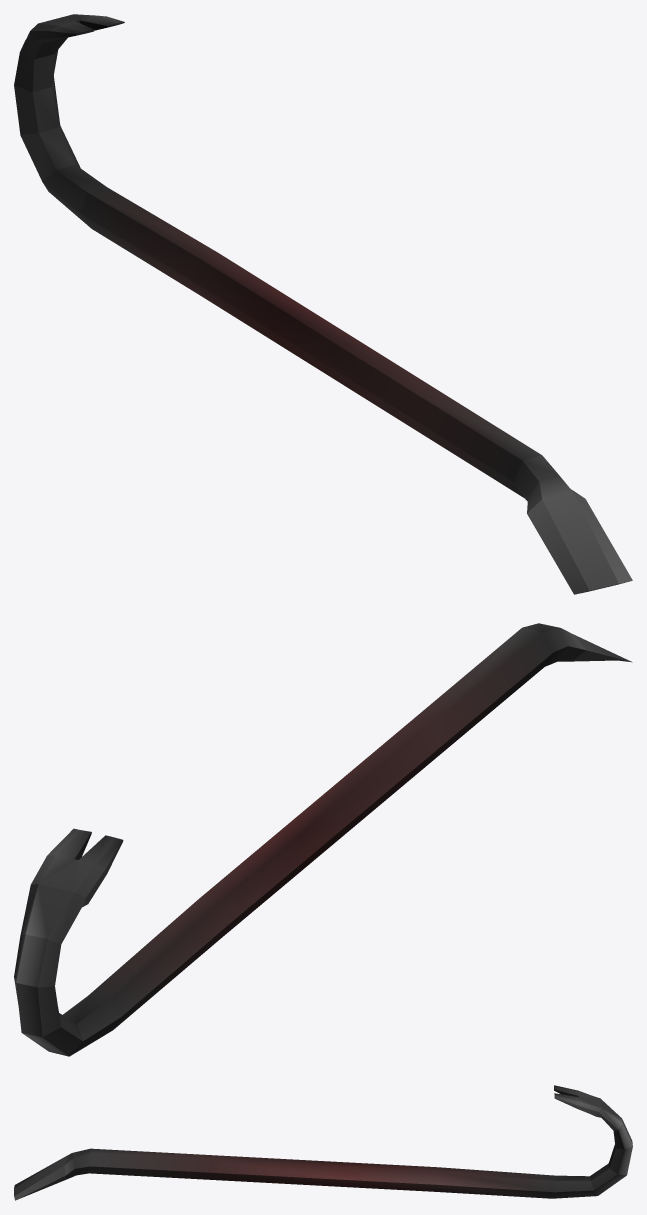
File: human-tools-crowbar_v1.fbx
The picture shows the model from 3 angles, top to bottom: view 1: azimuth 30°, elevation 25°; view 2: azimuth 150°, elevation 25°; view 3: azimuth 270°, elevation 25°; orthographic projection. The views are drawn at different scales.
Parts seen in each view (by area): view 1: Crowbar.001; view 2: Crowbar.001; view 3: Crowbar.001.
Part boxes in pixels (<box>): Crowbar.001: <box>14,14,632,594</box>; Crowbar.001: <box>14,623,632,1056</box>; Crowbar.001: <box>14,1085,632,1200</box>.
Size of the model in its own units: 0.045 by 0.1404 by 0.75.
